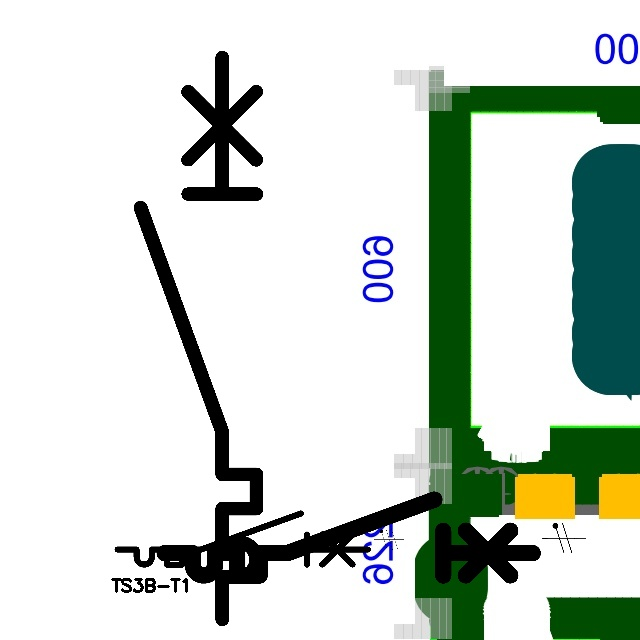interruptor_termomagnetico: (126, 43, 271, 634), (155, 490, 542, 585), (111, 507, 374, 571)
